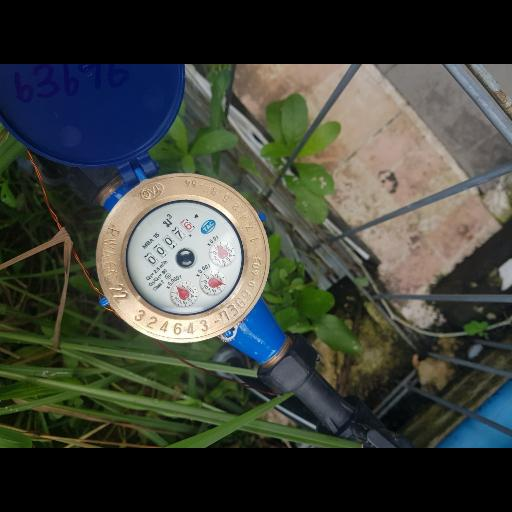0: (143, 251, 159, 267), (161, 234, 177, 250), (153, 243, 163, 259)
6: (179, 217, 189, 233)
7: (170, 226, 180, 242)
border_water_meter_number: (142, 215, 198, 269)
